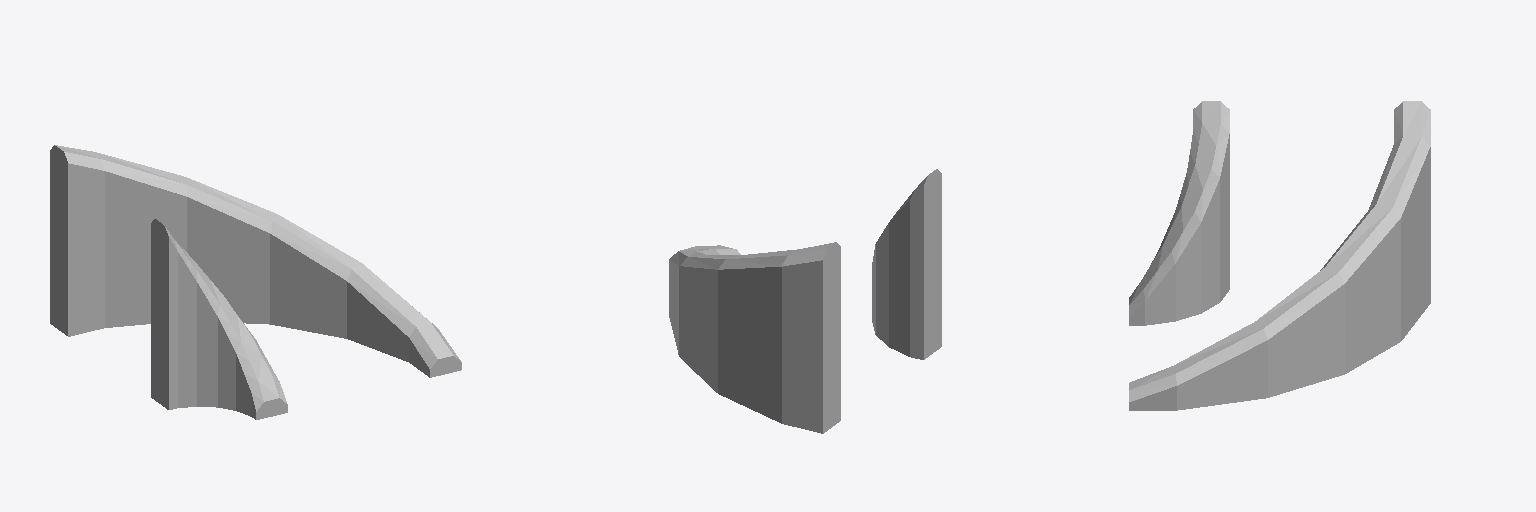
The model's file is struct_large_curved_wall_incline.obj.
3 views of the same model, side by side, from view 1: azimuth 30°, elevation 25°; view 2: azimuth 150°, elevation 25°; view 3: azimuth 270°, elevation 25° (orthographic).
Parts seen in each view (by area): view 1: struct_large_curved_wall_incline_2, struct_large_curved_wall_incline; view 2: struct_large_curved_wall_incline_2, struct_large_curved_wall_incline; view 3: struct_large_curved_wall_incline_2, struct_large_curved_wall_incline.
Boxes of the visible parts, x1=… form: struct_large_curved_wall_incline_2: x1=50, y1=145, x2=461, y2=377; struct_large_curved_wall_incline: x1=151, y1=219, x2=287, y2=419; struct_large_curved_wall_incline_2: x1=669, y1=242, x2=840, y2=433; struct_large_curved_wall_incline: x1=872, y1=169, x2=941, y2=359; struct_large_curved_wall_incline_2: x1=1129, y1=101, x2=1430, y2=410; struct_large_curved_wall_incline: x1=1129, y1=101, x2=1229, y2=325.
Size of the model in its own units: 1.65 by 1.1 by 1.65.